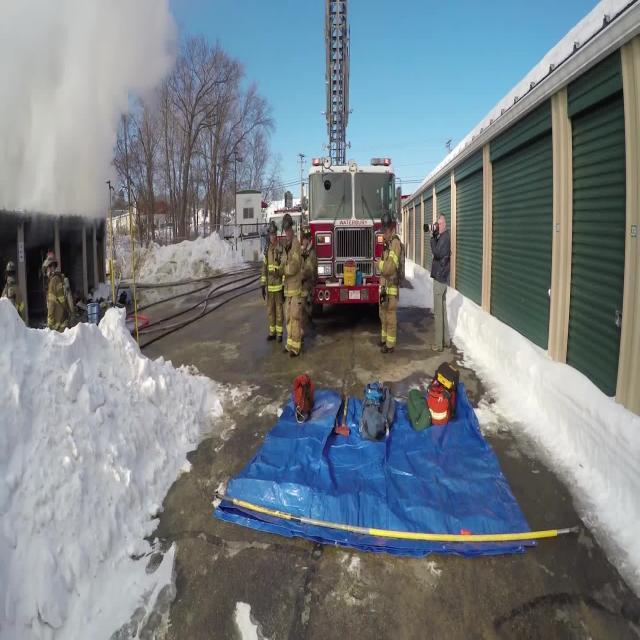Smoke: (0, 1, 176, 215)
